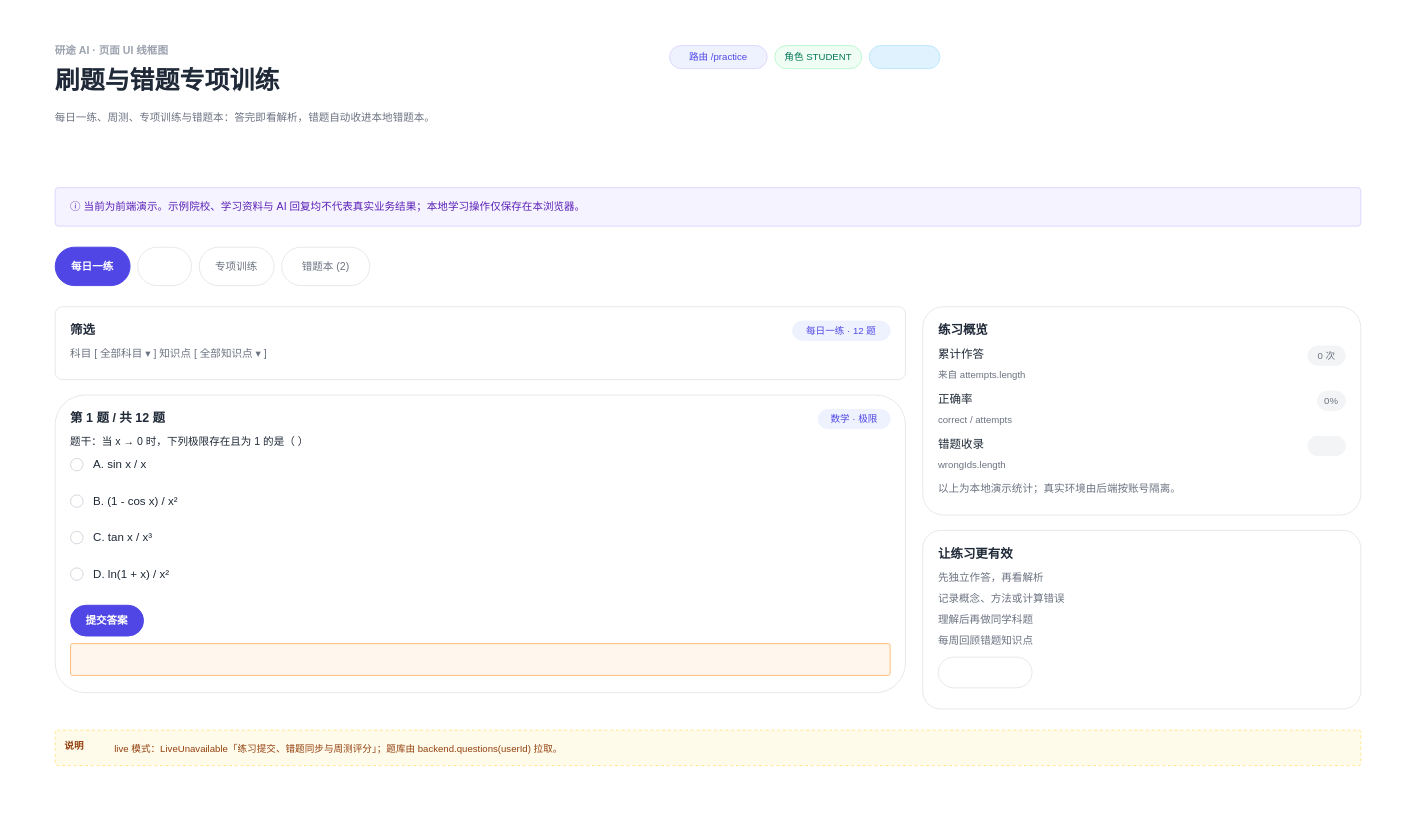
This 1417x831 diagram has some shape labels left out. Each missing label, with the box of its shape:
0 道: (1307, 435, 1345, 456)
周测: (137, 246, 192, 286)
模式 demo: (868, 45, 940, 69)
答后：正确 → 「回答正确，继续保持」；错误 → 「已加入本地错题本」+ 正确选项 + 解析，按钮变「下一题 / 练同学科题 / 问 AI 追问」。: (70, 643, 890, 675)
进入限时模考: (937, 656, 1032, 688)
